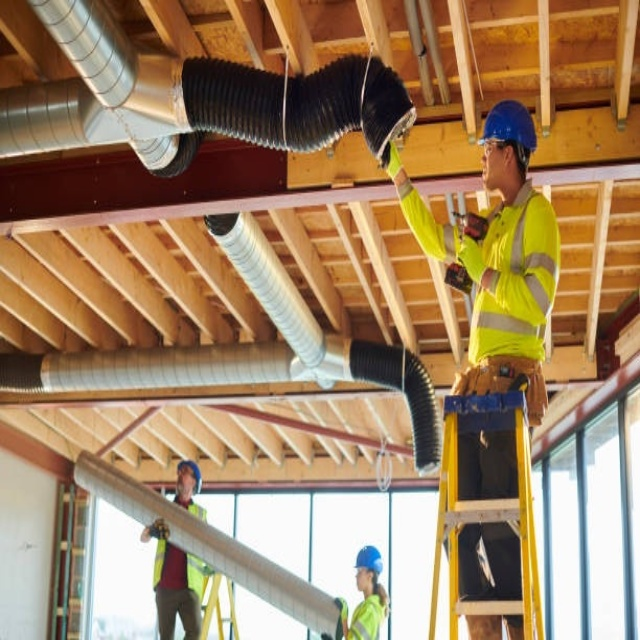Gafas: (178, 466, 198, 488), (481, 141, 509, 156), (355, 567, 369, 577)
Guantes: (455, 234, 489, 278), (381, 141, 409, 180), (146, 511, 172, 544), (333, 591, 350, 621)
Sin_mascara: (479, 157, 497, 188)
